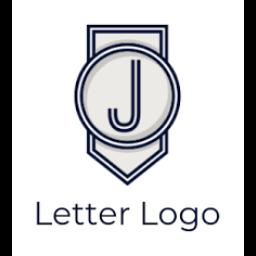j: (100, 61, 158, 133)
